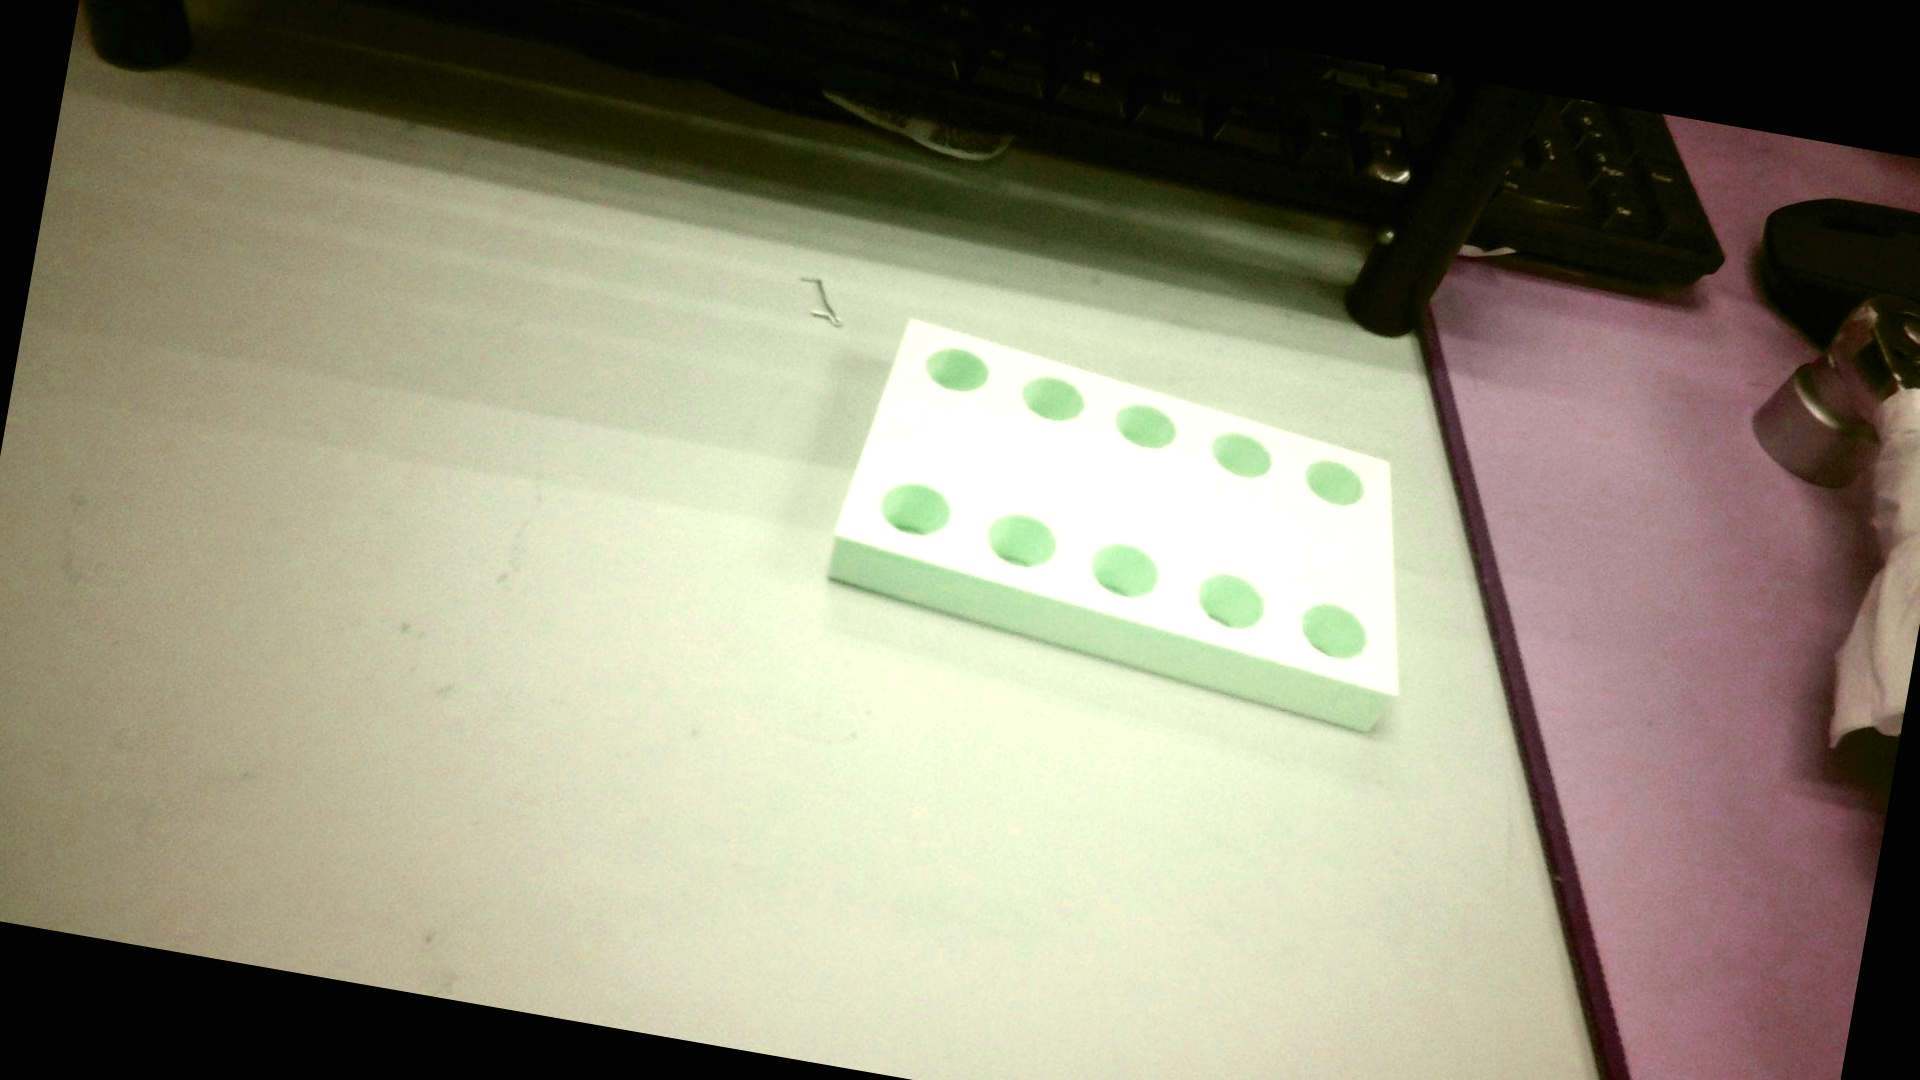hole: (1080, 531, 1168, 611), (976, 502, 1065, 578), (1189, 563, 1273, 641), (872, 473, 956, 543), (1295, 597, 1375, 670), (1298, 454, 1377, 516), (1013, 367, 1089, 429), (916, 339, 990, 400), (1113, 390, 1185, 451), (1205, 425, 1276, 480)
obj: (804, 299, 1448, 760)
